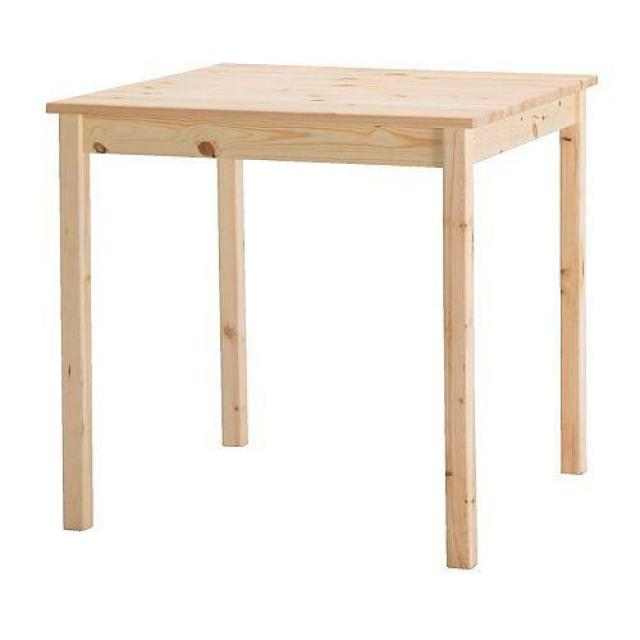table: (47, 64, 599, 571)
